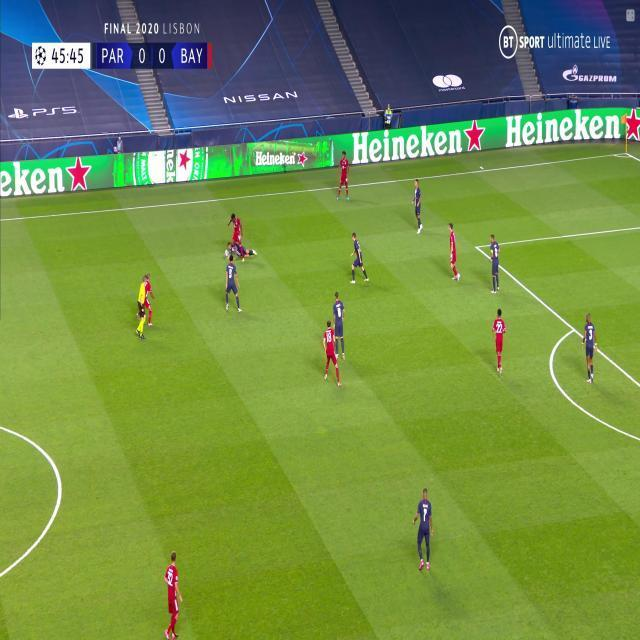ball: (224, 249, 229, 258)
player: (412, 486, 434, 575), (162, 552, 184, 639), (322, 320, 342, 390), (581, 314, 598, 387), (332, 292, 348, 362), (491, 310, 506, 379), (348, 232, 368, 283), (225, 258, 242, 314), (227, 214, 246, 264), (488, 234, 501, 297), (448, 223, 461, 283), (411, 180, 425, 235), (337, 151, 350, 202), (146, 274, 154, 329), (227, 243, 257, 257)
referee: (136, 275, 146, 343)
